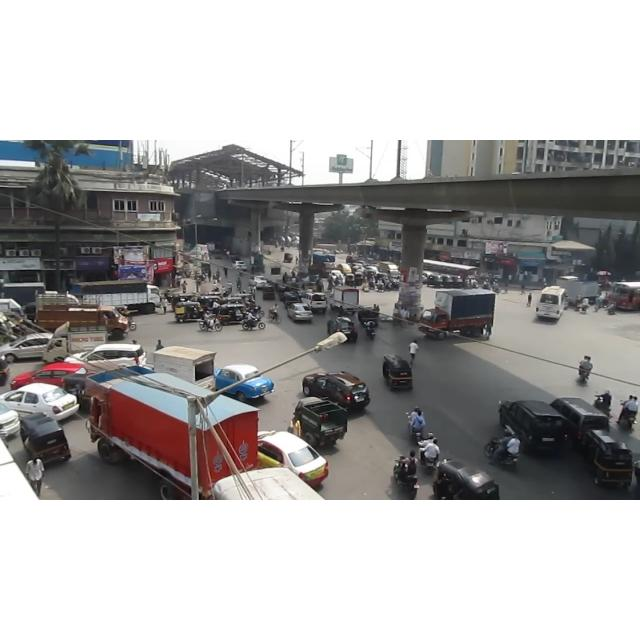auto: (16, 401, 86, 479), (577, 430, 638, 499), (428, 460, 502, 500), (380, 349, 420, 399), (174, 297, 208, 325), (217, 302, 255, 326), (359, 306, 383, 330), (262, 284, 280, 304), (282, 250, 298, 266), (429, 273, 443, 291), (444, 273, 458, 290)
truck: (85, 366, 259, 500), (418, 288, 496, 340), (35, 304, 129, 340), (71, 280, 161, 314), (288, 397, 348, 447), (42, 321, 108, 363), (154, 346, 216, 390), (556, 276, 600, 304), (29, 288, 91, 305), (2, 283, 46, 305), (328, 285, 360, 313), (309, 247, 335, 273)
